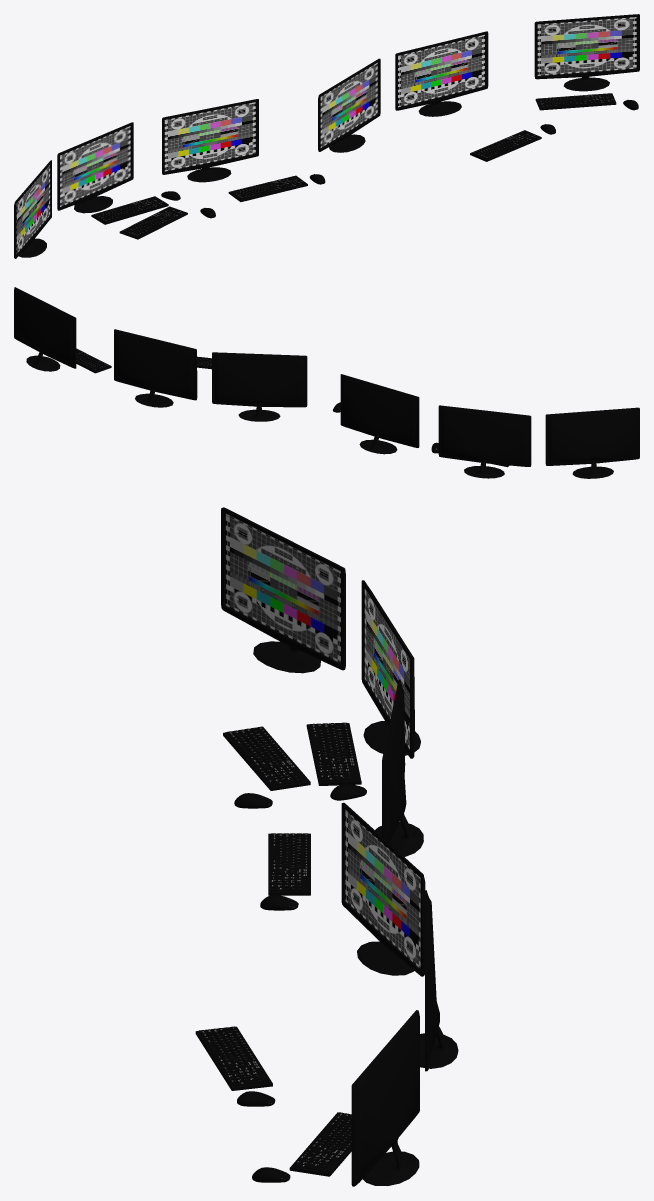
Rendered from ComputersGroup01.glb.
The picture shows the model from 3 angles, top to bottom: view 1: azimuth 30°, elevation 25°; view 2: azimuth 150°, elevation 25°; view 3: azimuth 270°, elevation 25°; orthographic projection. The views are drawn at different scales.
Parts seen in each view (by area): view 1: Display_flat016 (×6), Monitor_flat031 (×6), Keyboard006 (×5); view 2: Monitor_flat031 (×6), Keyboard006; view 3: Monitor_flat031 (×6), Display_flat016 (×3), Keyboard006 (×5).
Boxes of the visible parts, bbox=[...] form: Display_flat016 (×6): bbox=[16, 17, 637, 253]; Monitor_flat031 (×6): bbox=[14, 14, 639, 258]; Keyboard006 (×5): bbox=[91, 93, 616, 239]; Monitor_flat031 (×6): bbox=[14, 287, 639, 478]; Keyboard006: bbox=[76, 348, 111, 373]; Monitor_flat031 (×6): bbox=[221, 507, 458, 1186]; Display_flat016 (×3): bbox=[225, 513, 420, 968]; Keyboard006 (×5): bbox=[195, 722, 361, 1176].
Bounding box in the file's own units: 4.04 × 0.3978 × 0.7745.
4 materials, 2 textured.
